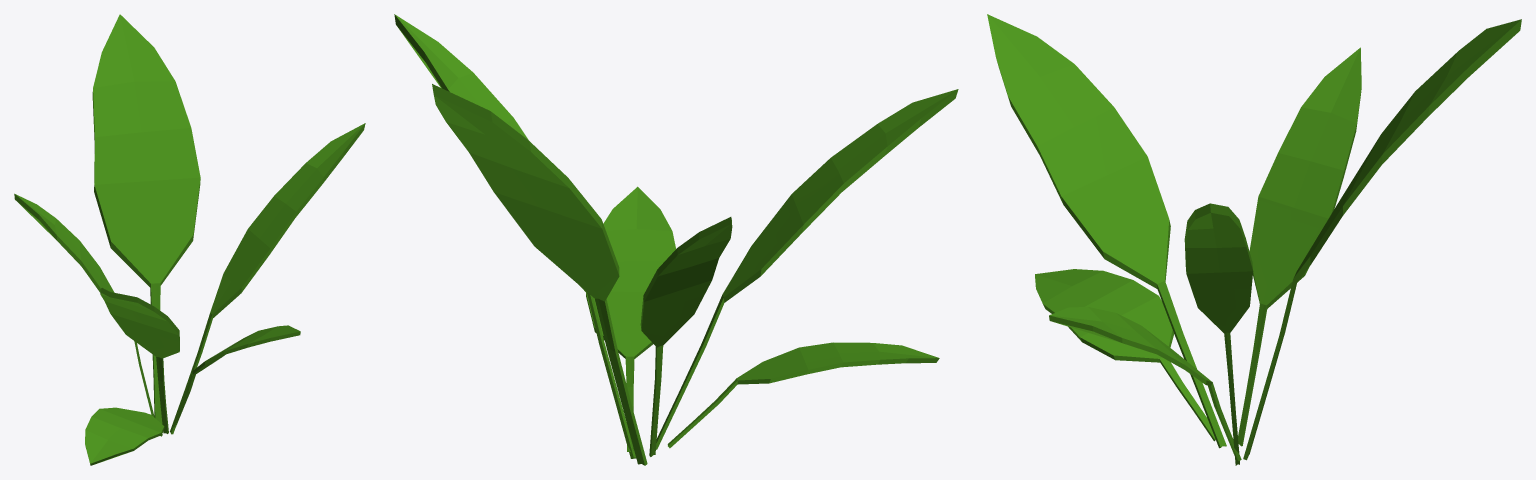
The model's file is PlantYard_v003(UV_Unwrapped).fbx.
3 renders of one model, left to right at view 1: azimuth 30°, elevation 25°; view 2: azimuth 150°, elevation 25°; view 3: azimuth 270°, elevation 25°, orthographic. The views are drawn at different scales.
Parts seen in each view (by area): view 1: Plant.007; view 2: Plant.007; view 3: Plant.007.
Part boxes in pixels (x1,y1,x2,y2): Plant.007: (14,14,365,465); Plant.007: (394,14,958,465); Plant.007: (987,14,1521,465).
Size of the model in its own units: 704 by 670 by 677.
